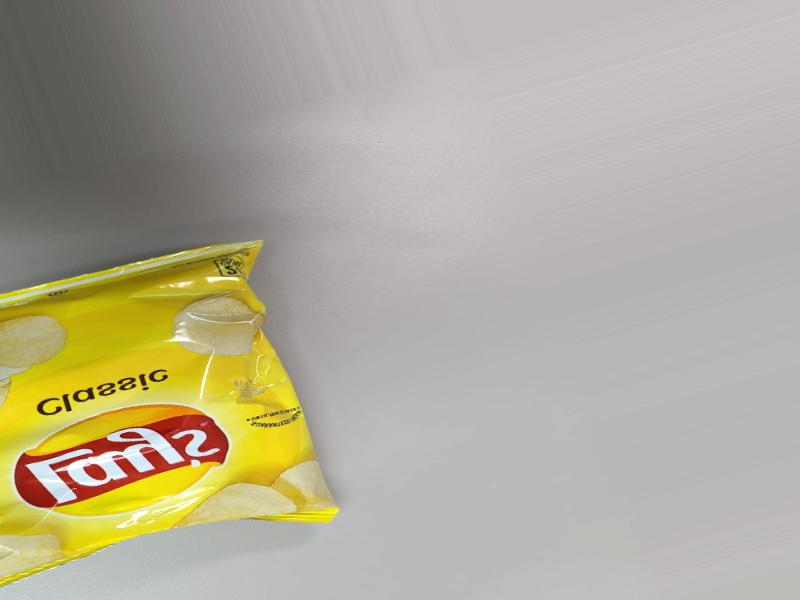lays: (0, 240, 324, 592)
